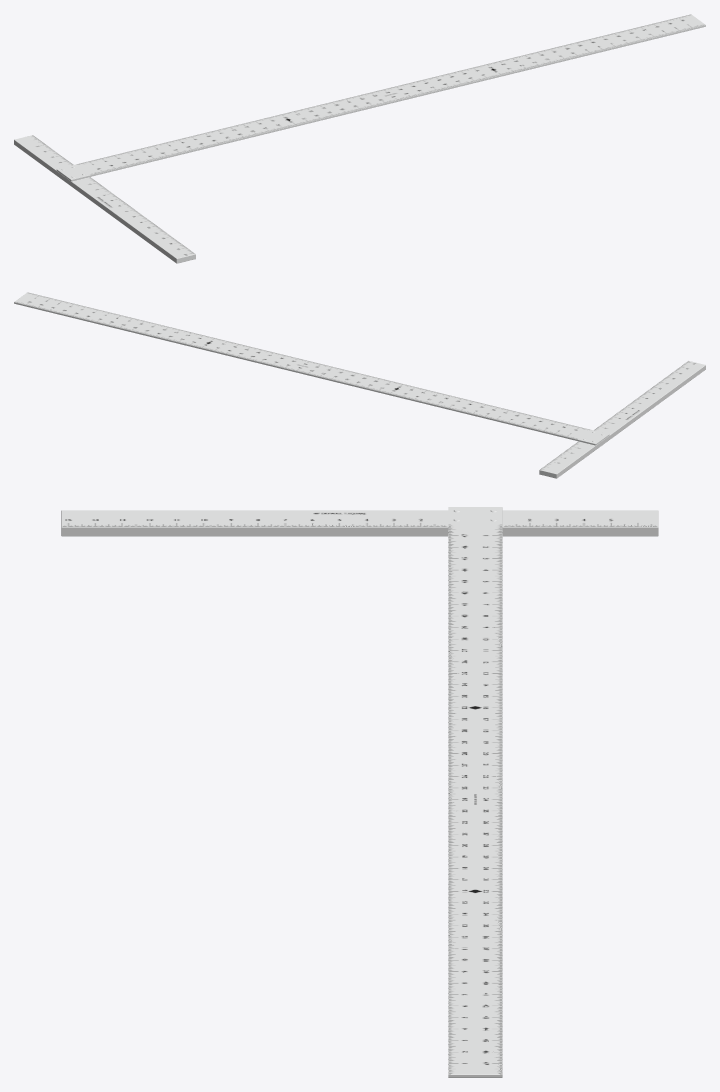
File: drywall-square.fbx
3 views of the same model, one above another, from view 1: azimuth 30°, elevation 25°; view 2: azimuth 150°, elevation 25°; view 3: azimuth 270°, elevation 25° (orthographic). The views are drawn at different scales.
Parts seen in each view (by area): view 1: DrywallSquare; view 2: DrywallSquare; view 3: DrywallSquare.
Part boxes in pixels (left/top/right/bottom): DrywallSquare: left=14, top=14, right=705, bottom=263; DrywallSquare: left=14, top=292, right=705, bottom=478; DrywallSquare: left=61, top=507, right=658, bottom=1077.
Size of the model in its own units: 1.26 by 0.0135 by 0.5588.
1 material, 1 textured.
